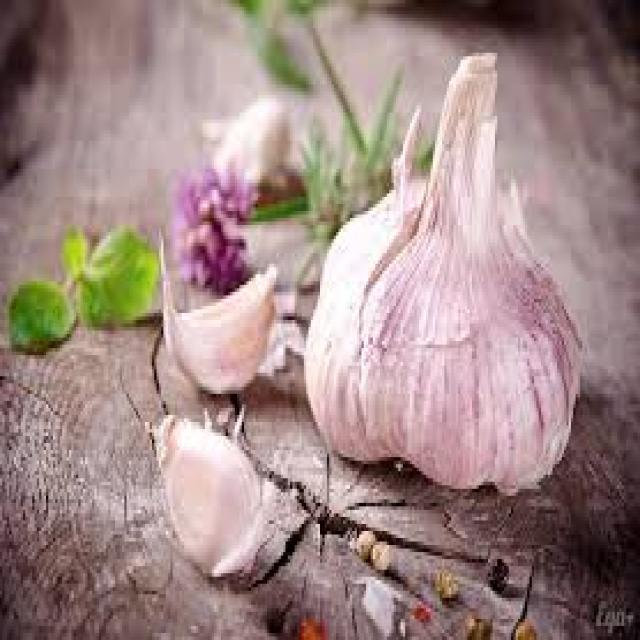Garlic: (292, 53, 590, 484), (144, 403, 266, 578), (141, 253, 287, 393)
